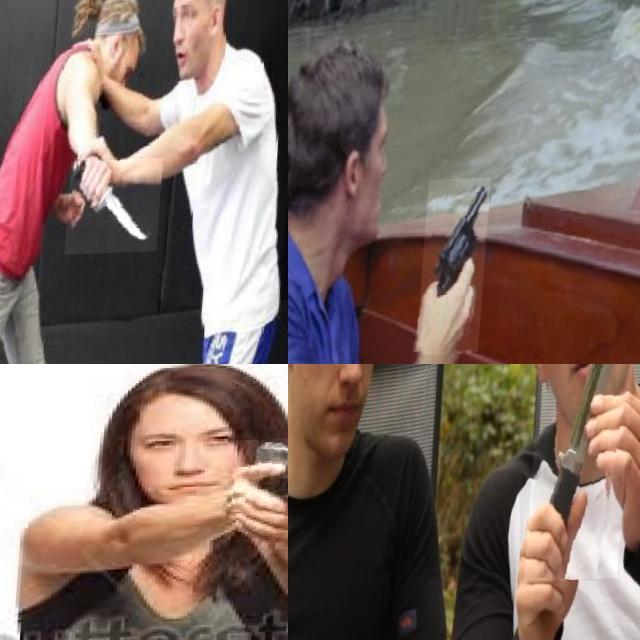-: (530, 364, 640, 584), (70, 161, 167, 256)
gun-knife-thesis - v11 Yolov5 augmented: (422, 181, 494, 358), (233, 440, 288, 521)
